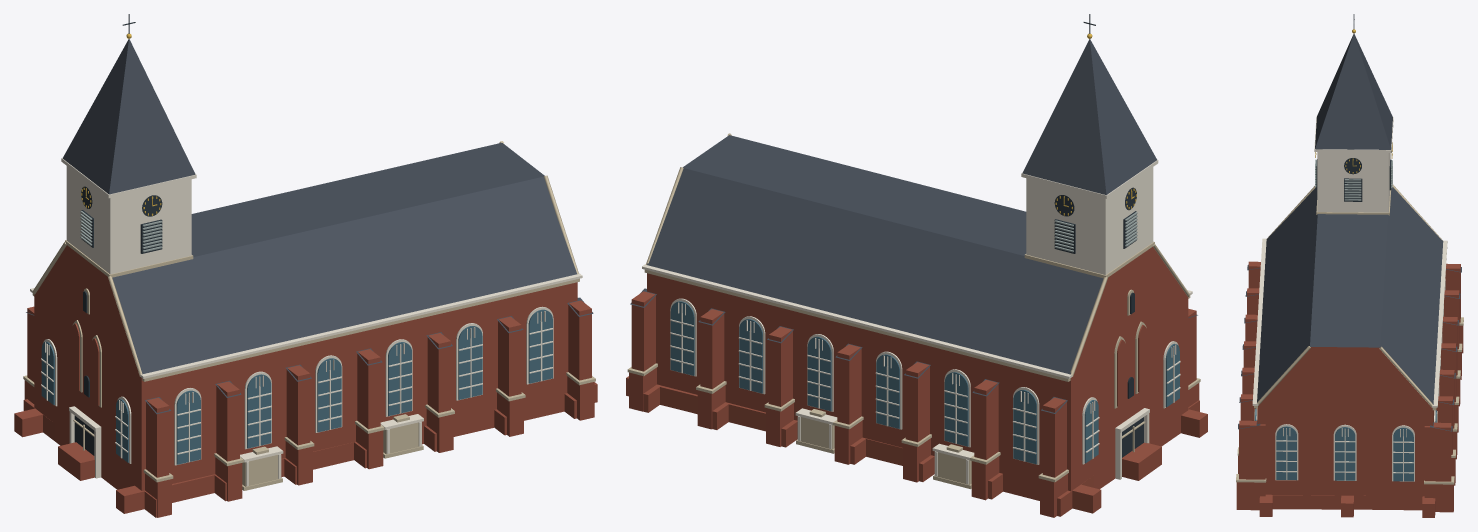
File: petruskerk.glb
3 views of the same model, side by side, from view 1: azimuth 30°, elevation 25°; view 2: azimuth 150°, elevation 25°; view 3: azimuth 270°, elevation 25° (orthographic). The views are drawn at different scales.
Visible parts, largest first — view 1: petruskerk; view 2: petruskerk; view 3: petruskerk.
Boxes of the visible parts, bbox=[...] form: petruskerk: bbox=[14, 14, 597, 517]; petruskerk: bbox=[626, 14, 1207, 517]; petruskerk: bbox=[1236, 14, 1463, 517].
Size of the model in its own units: 27.78 by 24.9 by 14.83.
